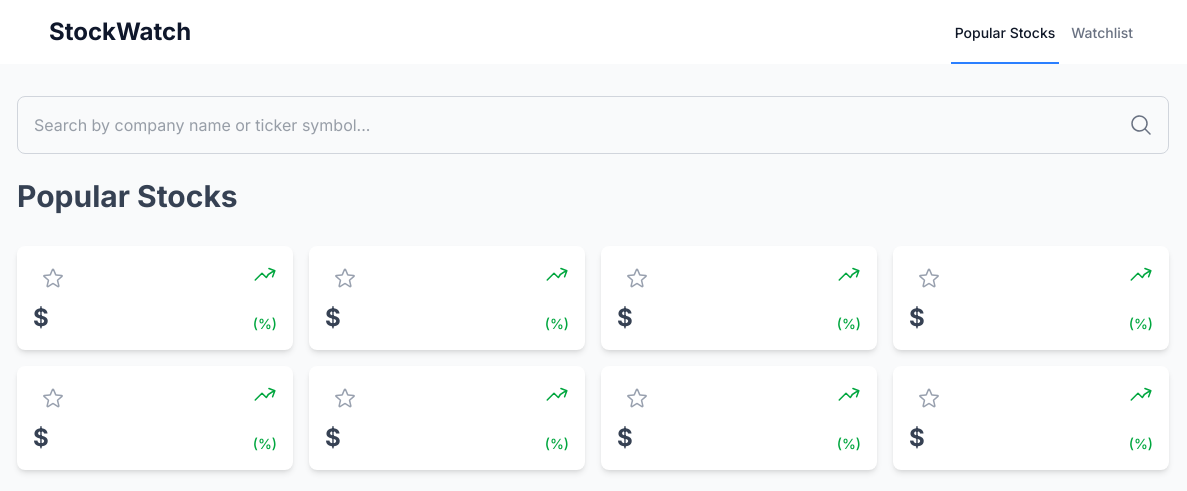
Test: Watchlist › adds and removes stocks from watchlist
This screenshot has width=1187, height=491.
Click the 1st button with test id "watchlist-button".
click(53, 278)  # box [37,262,69,294]
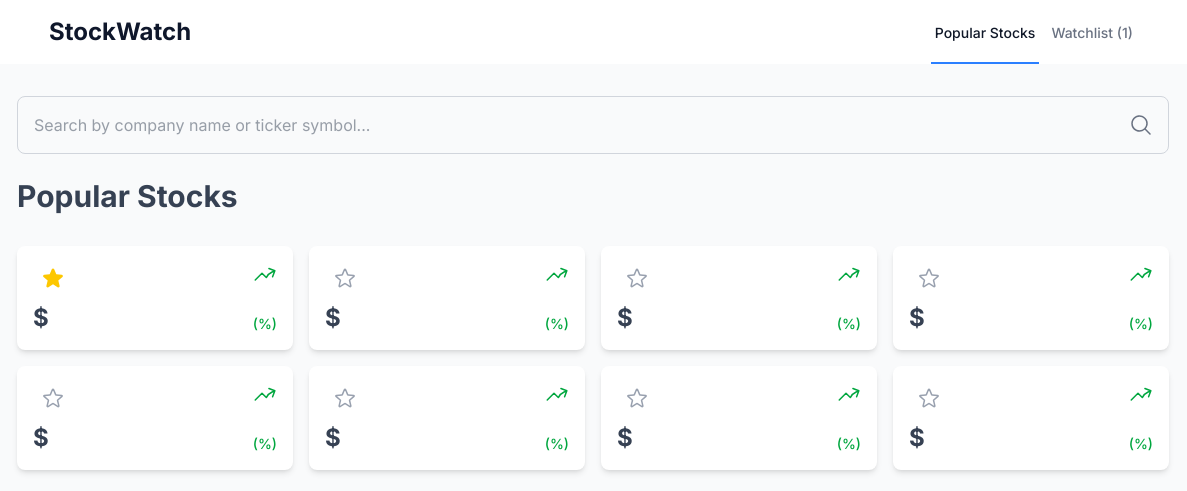
Expected: the link with test id "watchlist-link" shows "(1)"
Click the link with test id "watchlist-link".
click(1092, 33)  # box [1051,24,1133,41]
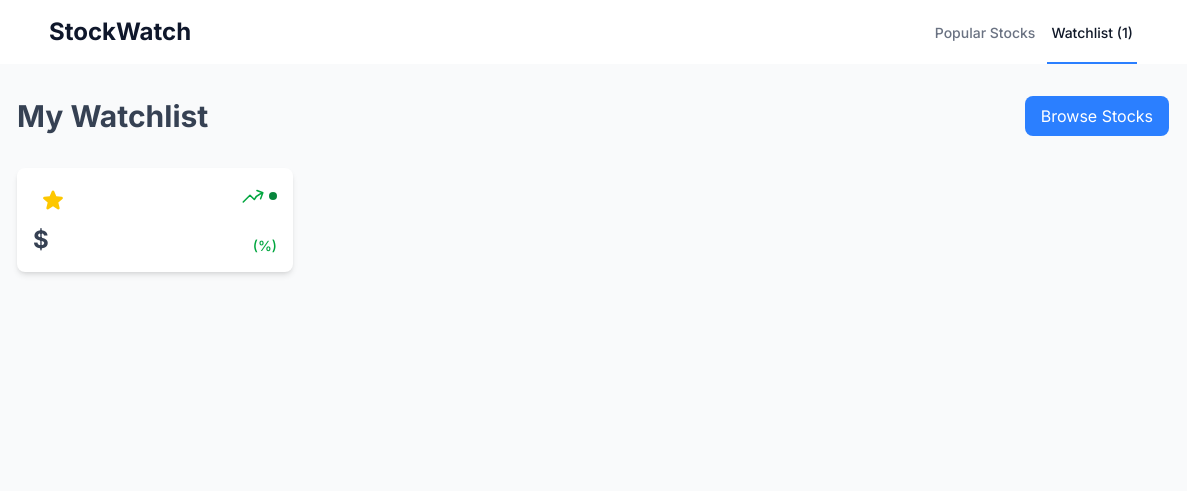
Expected: the number of elements with test id "stock-card" is 1, [17,168,293,272]
Click the button with test id "watchlist-button".
click(53, 200)  # box [37,184,69,216]
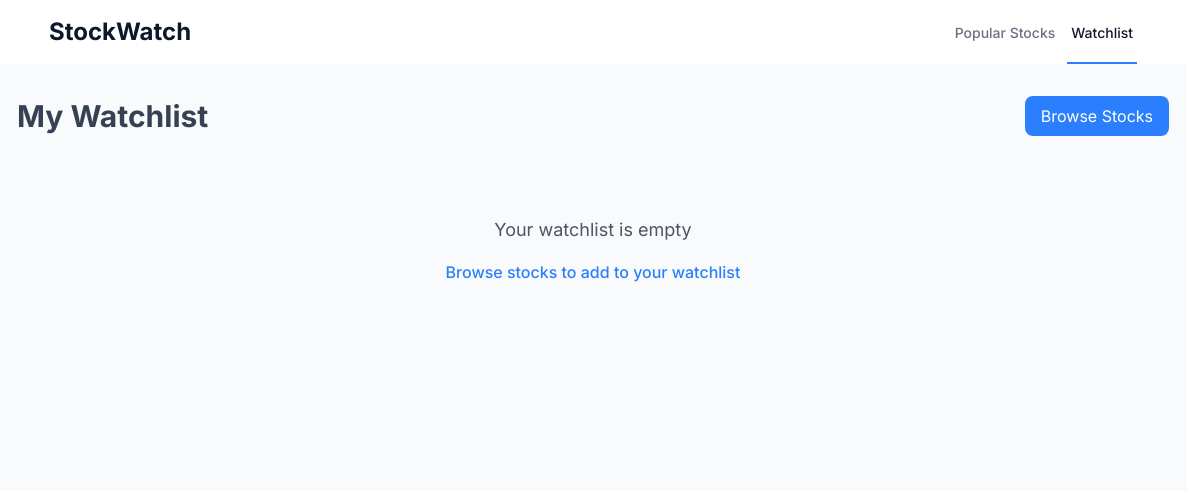
Expected: the element with test id "empty-watchlist" is shown, [446,219,741,282]
Expected: the link with test id "watchlist-link" no longer shows "("
